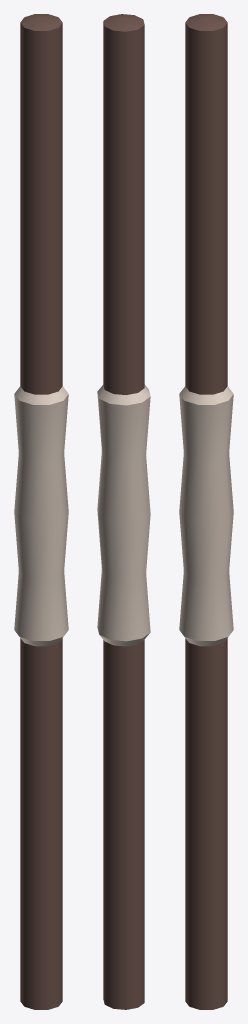
The model's file is staff_B.gltf.glb.
3 views of the same model, side by side, from view 1: azimuth 90°, elevation 25°; view 2: azimuth 150°, elevation 25°; view 3: azimuth 270°, elevation 25° (orthographic).
Parts seen in each view (by area): view 1: staff_B; view 2: staff_B; view 3: staff_B.
Boxes of the visible parts, bbox=[...] form: staff_B: bbox=[14, 14, 68, 1009]; staff_B: bbox=[97, 14, 150, 1009]; staff_B: bbox=[179, 14, 233, 1009].
Bounding box in the file's own units: 0.1059 × 2.23 × 0.1113.
